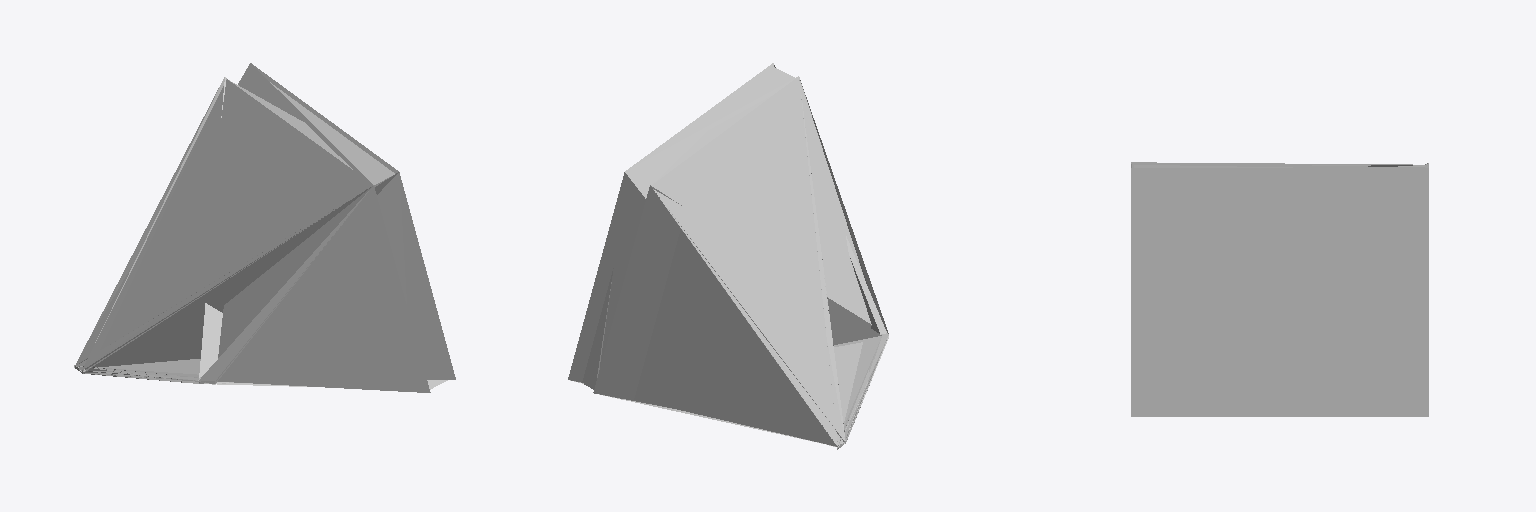
Rendered from player.obj.
The picture shows the model from 3 angles: view 1: azimuth 30°, elevation 25°; view 2: azimuth 150°, elevation 25°; view 3: azimuth 270°, elevation 25°; orthographic projection.
Visible parts, largest first — view 1: Line003, Text002, Cylinder016, Cylinder022; view 2: Text002, Cylinder022, Line003; view 3: Text002, Cylinder016.
Part boxes in pixels (x1,y1,x2,y2): Line003: (82,77,455,392); Text002: (74,63,398,384); Cylinder016: (84,187,370,383); Cylinder022: (82,63,371,383); Text002: (570,63,888,449); Cylinder022: (568,77,887,442); Line003: (582,65,888,389); Text002: (1131,162,1428,416); Cylinder016: (1131,162,1428,167).
Size of the model in its own units: 1240 by 1150 by 1272.